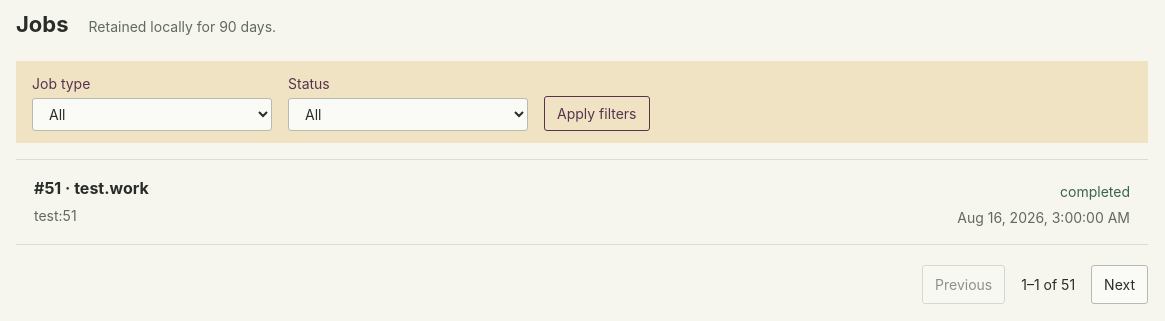
Test case: operational history views › pages through the complete durable job history
Click the button "Next": {"x": 1120, "y": 284} [1091,265,1148,304]
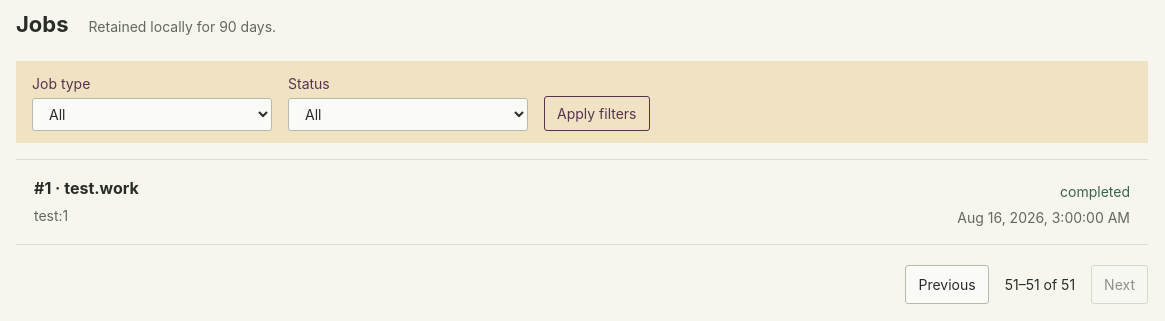
Check: the text "51–51 of 51" is shown, box [1005,274,1075,295]
Check: the text "#1 · test.work" is shown, box [34,176,139,200]
